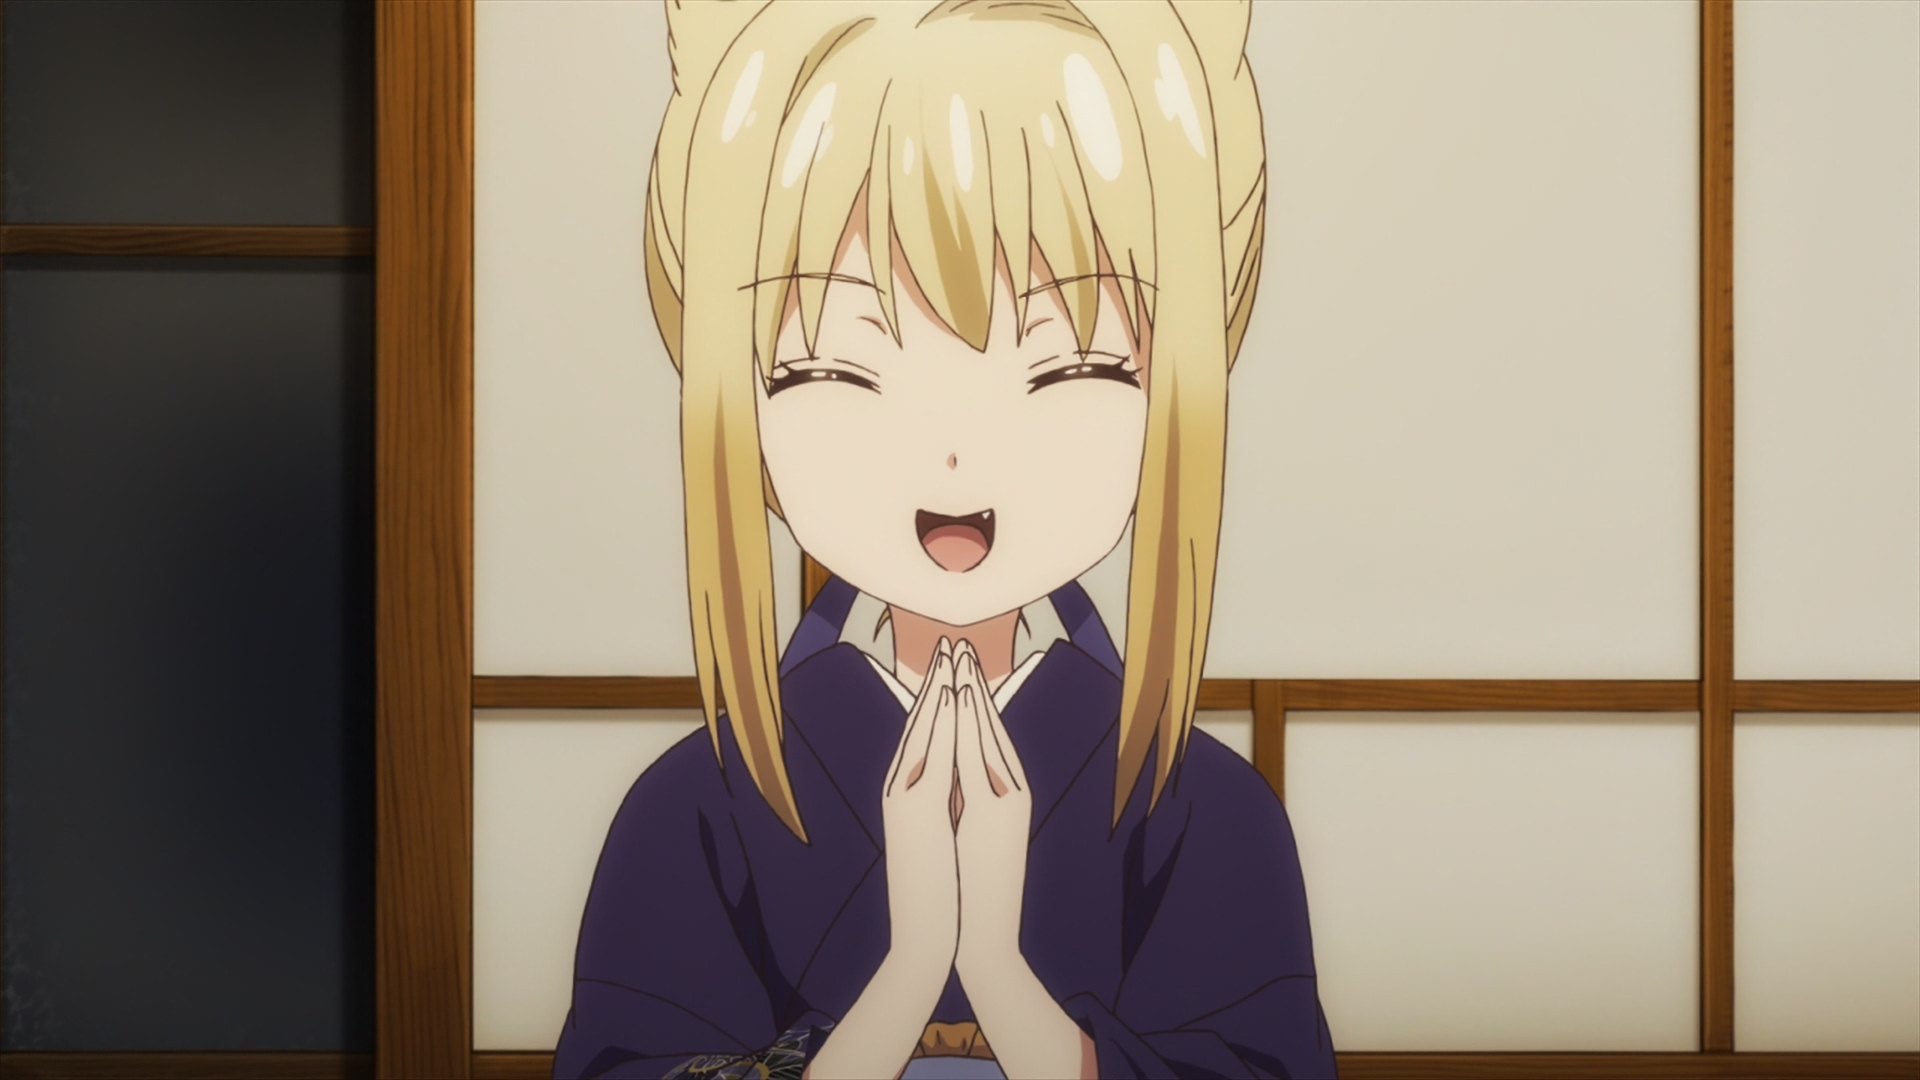桐: (545, 1, 1333, 1080)
